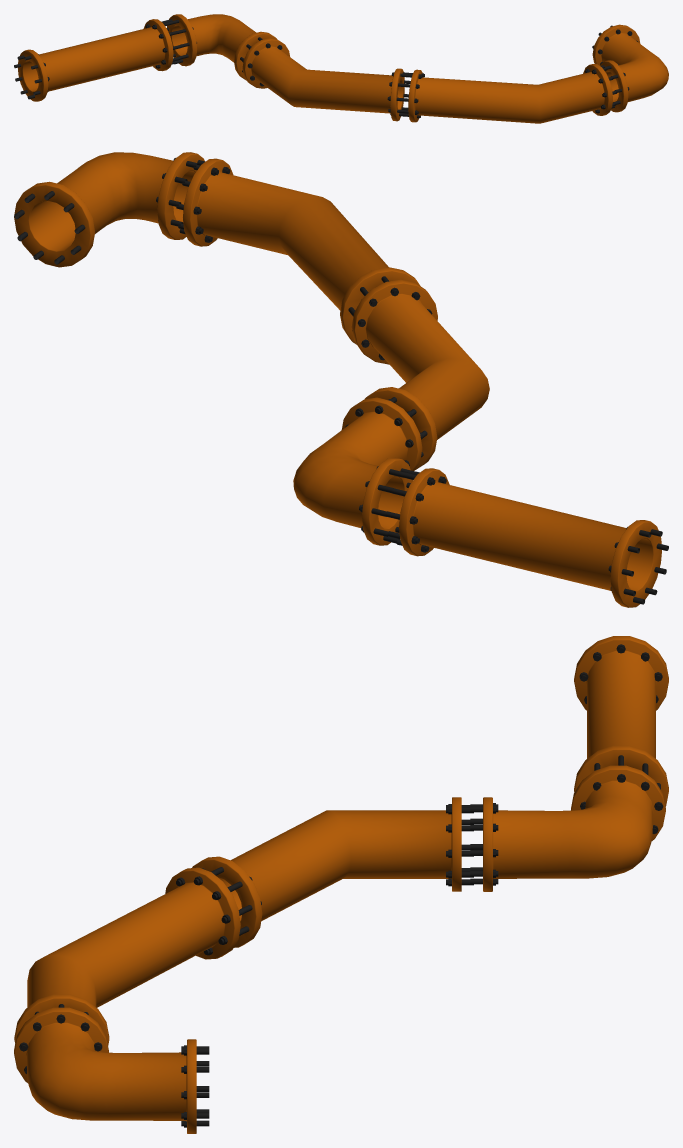
The model's file is IND_PIPE_2.FBX.
3 views of the same model, one above another, from view 1: azimuth 30°, elevation 25°; view 2: azimuth 150°, elevation 25°; view 3: azimuth 270°, elevation 25° (orthographic). The views are drawn at different scales.
Visible parts, largest first — view 1: Cylinder015, screws011; view 2: Cylinder015, screws011; view 3: Cylinder015, screws011.
Boxes of the visible parts, left/top/right/bottom form: Cylinder015: left=18, top=14, right=668, bottom=123; screws011: left=14, top=19, right=637, bottom=118; Cylinder015: left=14, top=152, right=661, bottom=607; screws011: left=14, top=158, right=668, bottom=604; Cylinder015: left=14, top=636, right=668, bottom=1133; screws011: left=19, top=644, right=663, bottom=1127.
Bounding box in the file's own units: 2133 × 194 × 1361.
